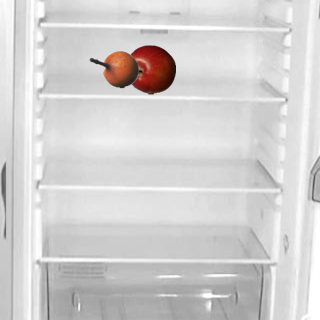Apple Braeburn: (125, 44, 175, 94)
Granadilla: (88, 44, 138, 94)
